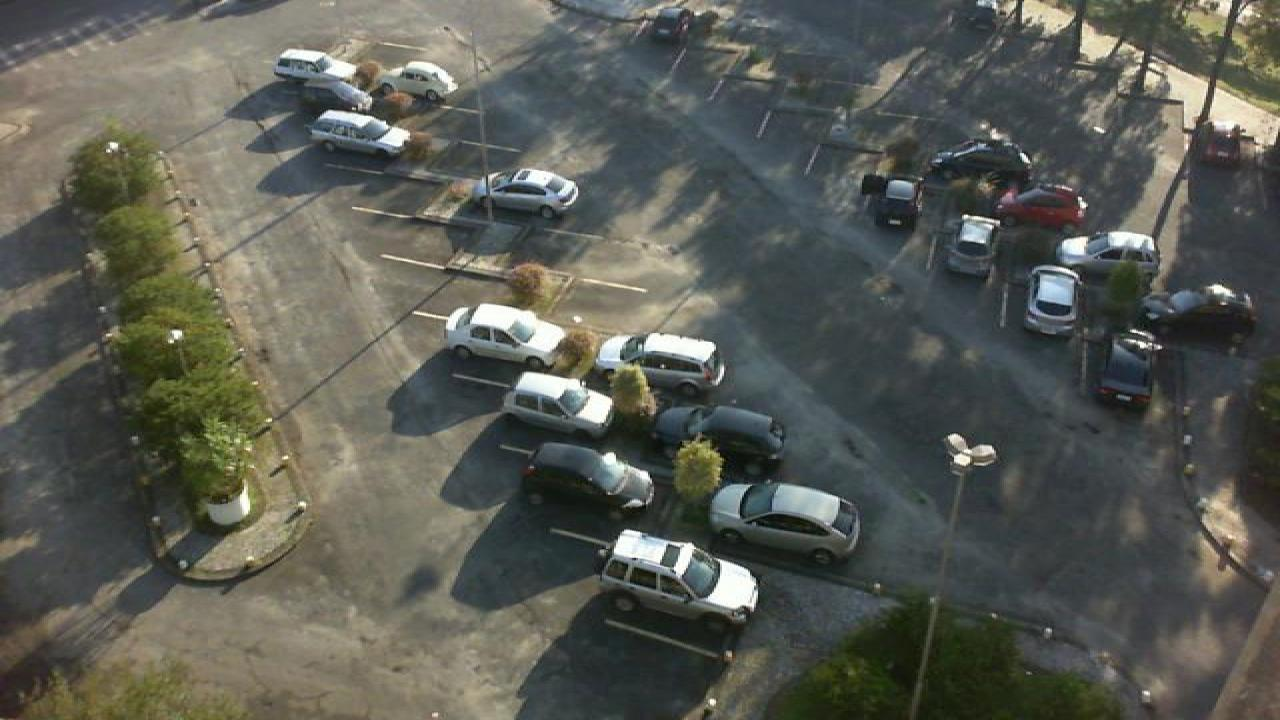Car: (596, 526, 764, 630), (706, 479, 864, 564), (520, 440, 658, 516), (652, 403, 788, 471), (590, 331, 728, 396), (498, 370, 618, 440), (440, 302, 568, 366), (1136, 282, 1256, 342), (1086, 326, 1164, 411), (1056, 230, 1166, 284), (920, 137, 1036, 186), (476, 168, 580, 217), (308, 108, 414, 156), (1020, 264, 1084, 338), (996, 182, 1090, 231), (858, 172, 928, 230), (936, 214, 1002, 274), (272, 47, 362, 88), (1186, 119, 1258, 169), (290, 74, 376, 114), (380, 60, 460, 103), (634, 4, 692, 42), (952, 0, 1004, 33)
